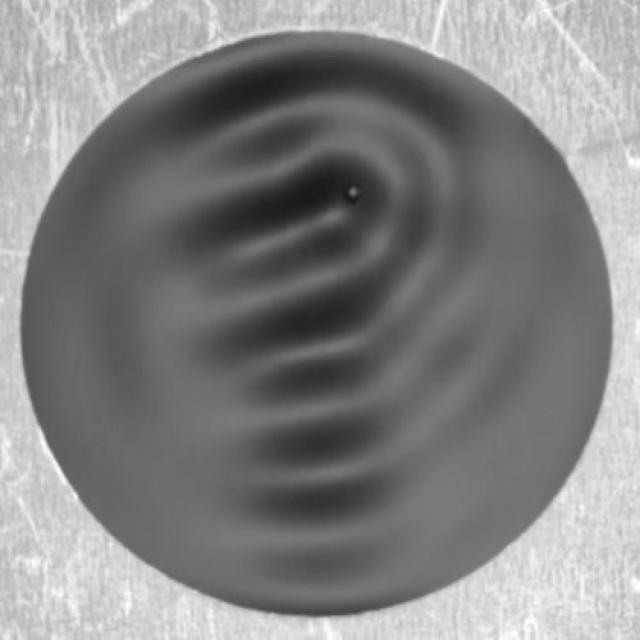droplet: (342, 180, 367, 205)
